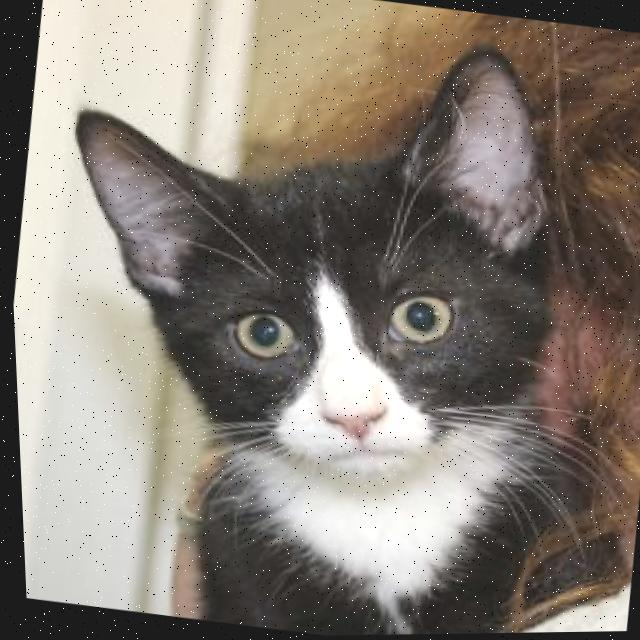Tuxedo: (0, 0, 629, 640)
